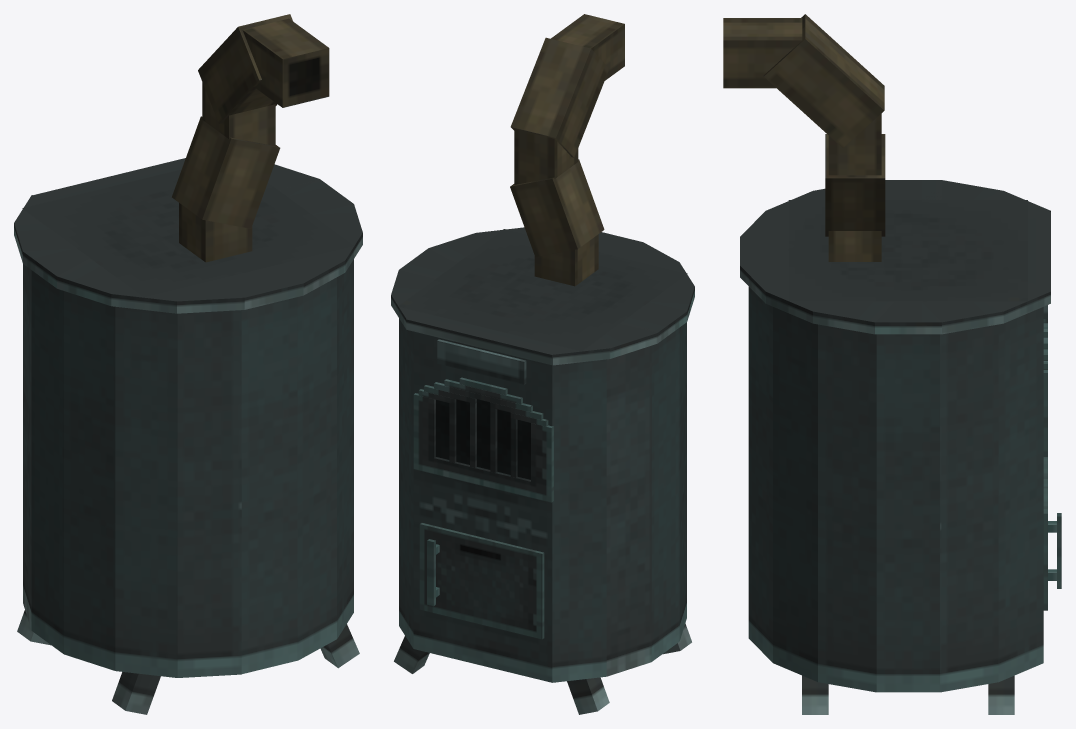
Rendered from furnace.glb.
3 views of the same model, side by side, from view 1: azimuth 30°, elevation 25°; view 2: azimuth 150°, elevation 25°; view 3: azimuth 270°, elevation 25° (orthographic). The views are drawn at different scales.
Parts seen in each view (by area): view 1: cube.001, cube, cube.015, cube.007, cube.027, cube.003, cube.006, cube.029, cube.004, cube.032, cube.031, cube.005 (+13 smaller); view 2: cube.002, cube.004, cube.027, cube.005, cube.033, cube.006, cube.031, cube.029, cube, cube.016, cube.026, cube.030 (+20 smaller); view 3: cube.006, cube.005, cube.007, cube.027, cube, cube.004, cube.003, cube.031, cube.032, cube.029, cube.024, cube.023 (+12 smaller).
Boxes of the visible parts, x1,y1,x2,y2 form: cube.001: (177,310,241,677); cube: (115,306,177,677); cube.015: (241,297,297,673); cube.007: (64,291,115,670); cube.027: (22,169,354,297); cube.003: (297,277,336,660); cube.006: (31,270,63,653); cube.029: (172,116,280,228); cube.004: (337,259,353,638); cube.032: (242,18,329,107); cube.031: (198,14,292,123); cube.005: (23,264,31,629); cube.002: (413,331,552,682); cube.004: (552,359,606,682); cube.027: (398,229,687,351); cube.005: (606,345,651,676); cube.033: (419,523,544,639); cube.006: (651,328,679,661); cube.031: (510,37,609,157); cube.029: (510,159,604,257); cube: (399,318,413,648); cube.016: (436,399,533,479); cube.026: (406,315,552,365); cube.030: (514,129,578,184); cube.006: (876,334,939,692); cube.005: (818,324,876,692); cube.007: (940,324,998,692); cube.027: (788,200,1027,301); cube: (998,307,1043,681); cube.004: (773,307,817,681); cube.003: (748,287,772,662); cube.031: (763,14,884,147); cube.032: (723,18,802,88); cube.029: (825,134,885,236); cube.024: (875,180,941,334); cube.023: (813,180,1003,334).
Bounding box in the file's own units: 15.83 × 33.83 × 15.89.
3 materials, 3 textured.
